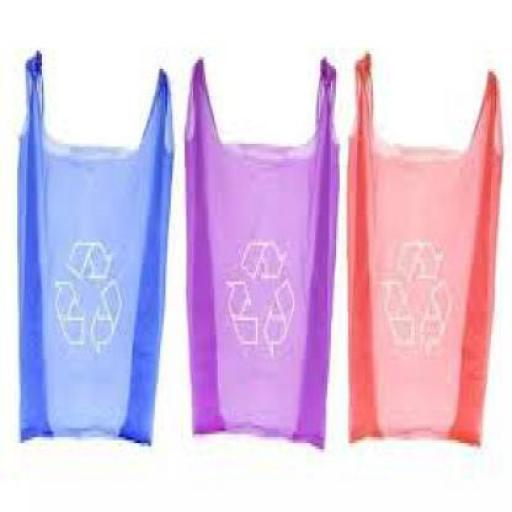plastic: (15, 48, 173, 441), (183, 58, 338, 452), (346, 51, 500, 446)
